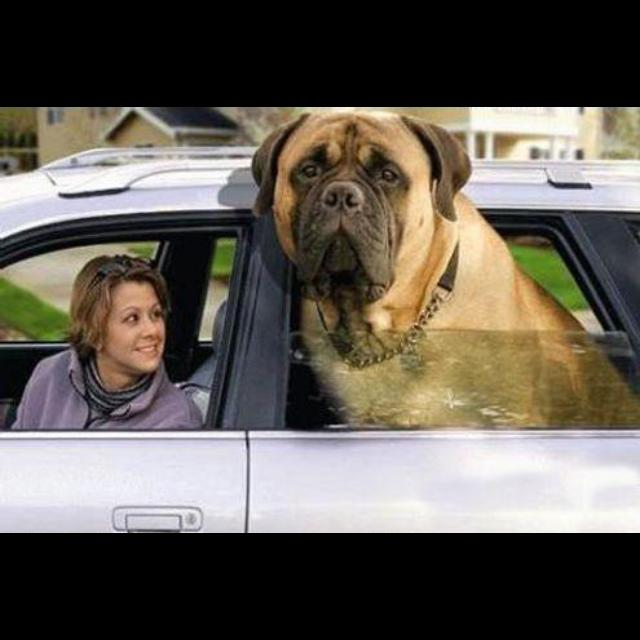bullmastiff: (250, 111, 639, 431)
face: (106, 282, 166, 372)
person: (11, 255, 204, 432)
